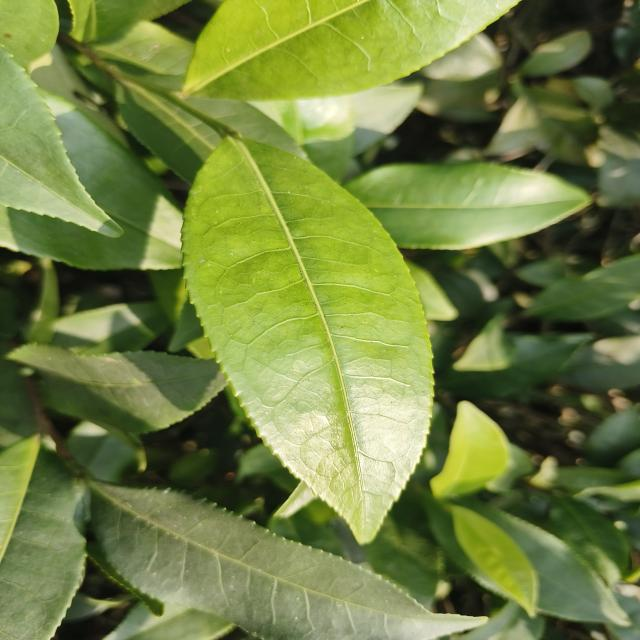Leaf: (182, 138, 432, 543), (89, 482, 483, 640), (184, 0, 517, 100), (0, 94, 182, 270), (0, 47, 123, 237), (345, 163, 589, 249), (116, 76, 307, 183), (7, 345, 227, 433), (477, 504, 630, 626), (0, 434, 86, 640), (436, 333, 590, 398), (450, 505, 538, 615), (424, 493, 507, 597), (256, 95, 355, 182), (525, 255, 640, 321), (549, 493, 630, 586), (431, 401, 509, 497), (363, 516, 439, 607), (51, 302, 168, 355), (561, 335, 640, 391), (421, 33, 501, 81), (519, 30, 591, 77), (584, 407, 640, 466)
